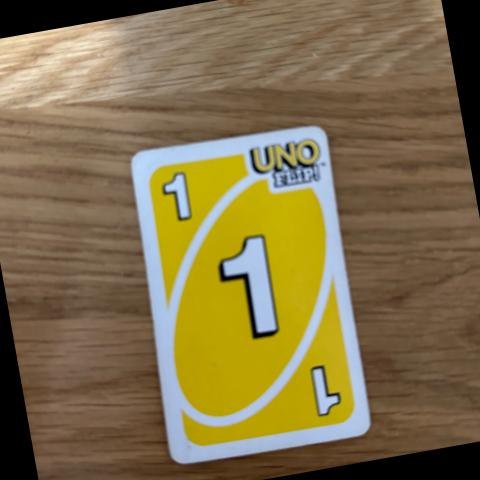skip_blue: (215, 232, 297, 346), (308, 354, 350, 421), (154, 171, 201, 228)
